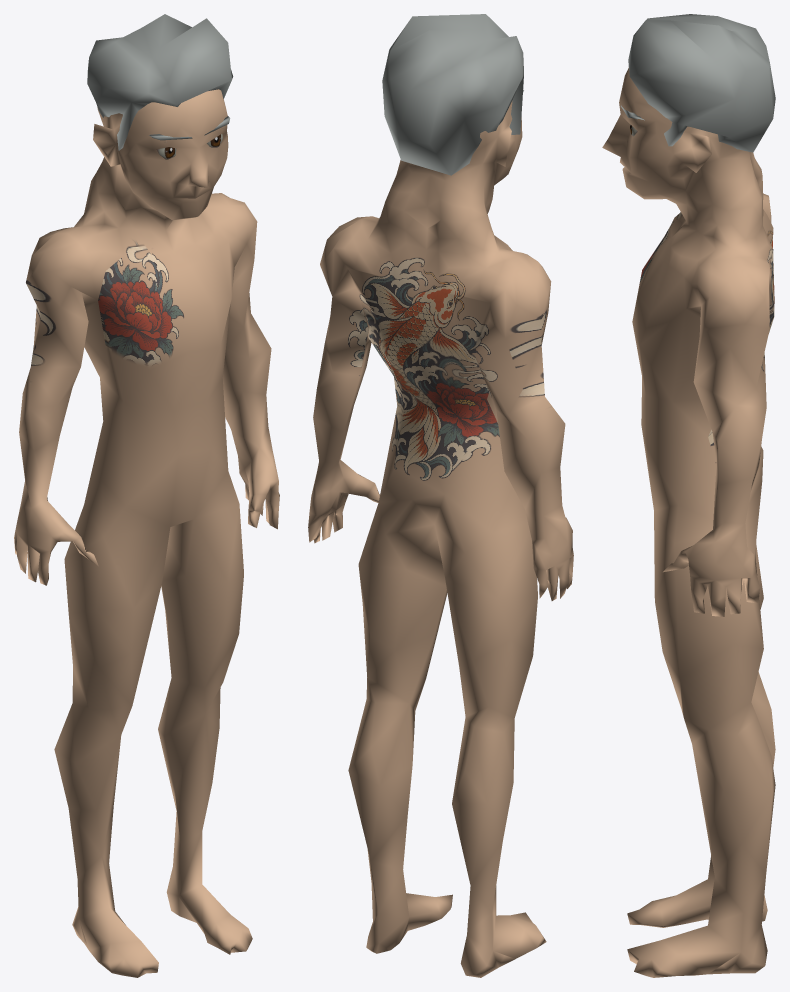
File: npc_bath_tattooed.glb
3 views of the same model, side by side, from view 1: azimuth 30°, elevation 25°; view 2: azimuth 150°, elevation 25°; view 3: azimuth 270°, elevation 25° (orthographic).
Parts seen in each view (by area): view 1: npc_bath_tattooed; view 2: npc_bath_tattooed; view 3: npc_bath_tattooed.
Boxes of the visible parts, x1,y1,x2,y2 form: npc_bath_tattooed: (14, 14, 279, 977); npc_bath_tattooed: (308, 14, 573, 977); npc_bath_tattooed: (602, 14, 775, 977).
Size of the model in its own units: 0.4512 by 1.6 by 0.2708.
Materials: 1 (1 with a texture image).
